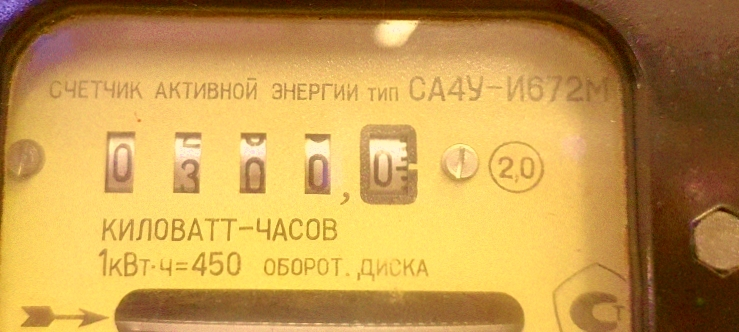0: (305, 150, 330, 194), (110, 138, 133, 185), (369, 146, 394, 189), (241, 153, 265, 194)
3: (177, 155, 200, 194)
screen: (83, 106, 437, 222)
